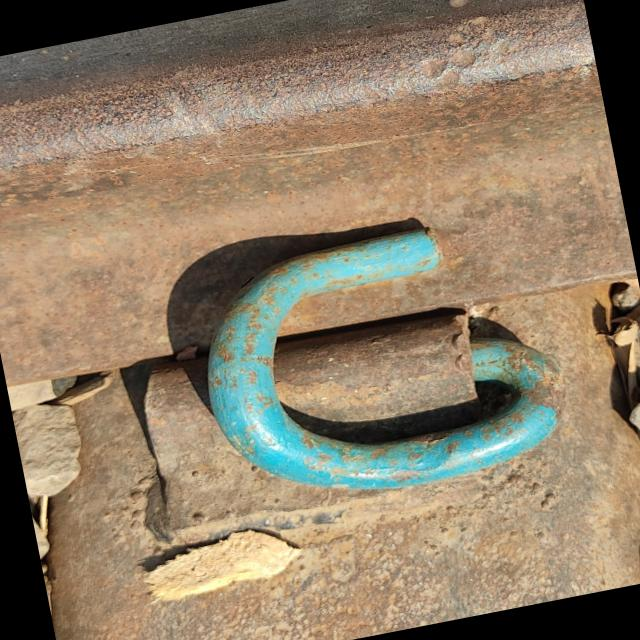track_bolt: (173, 196, 587, 534)
